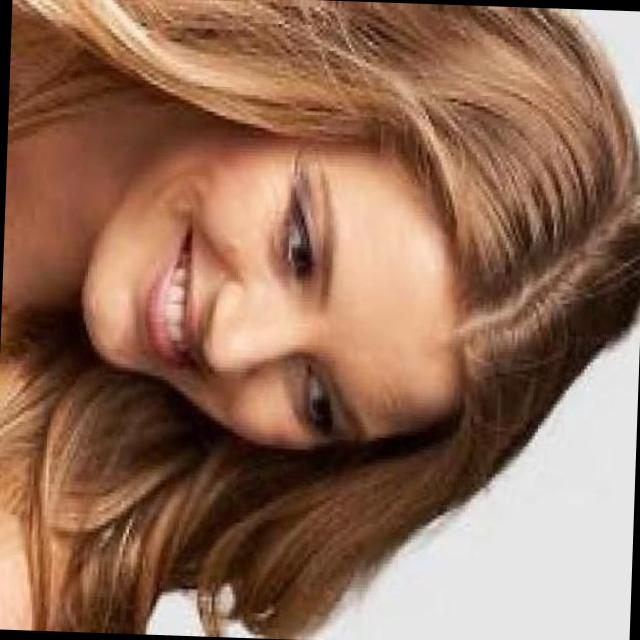bareface: (53, 78, 516, 476)
